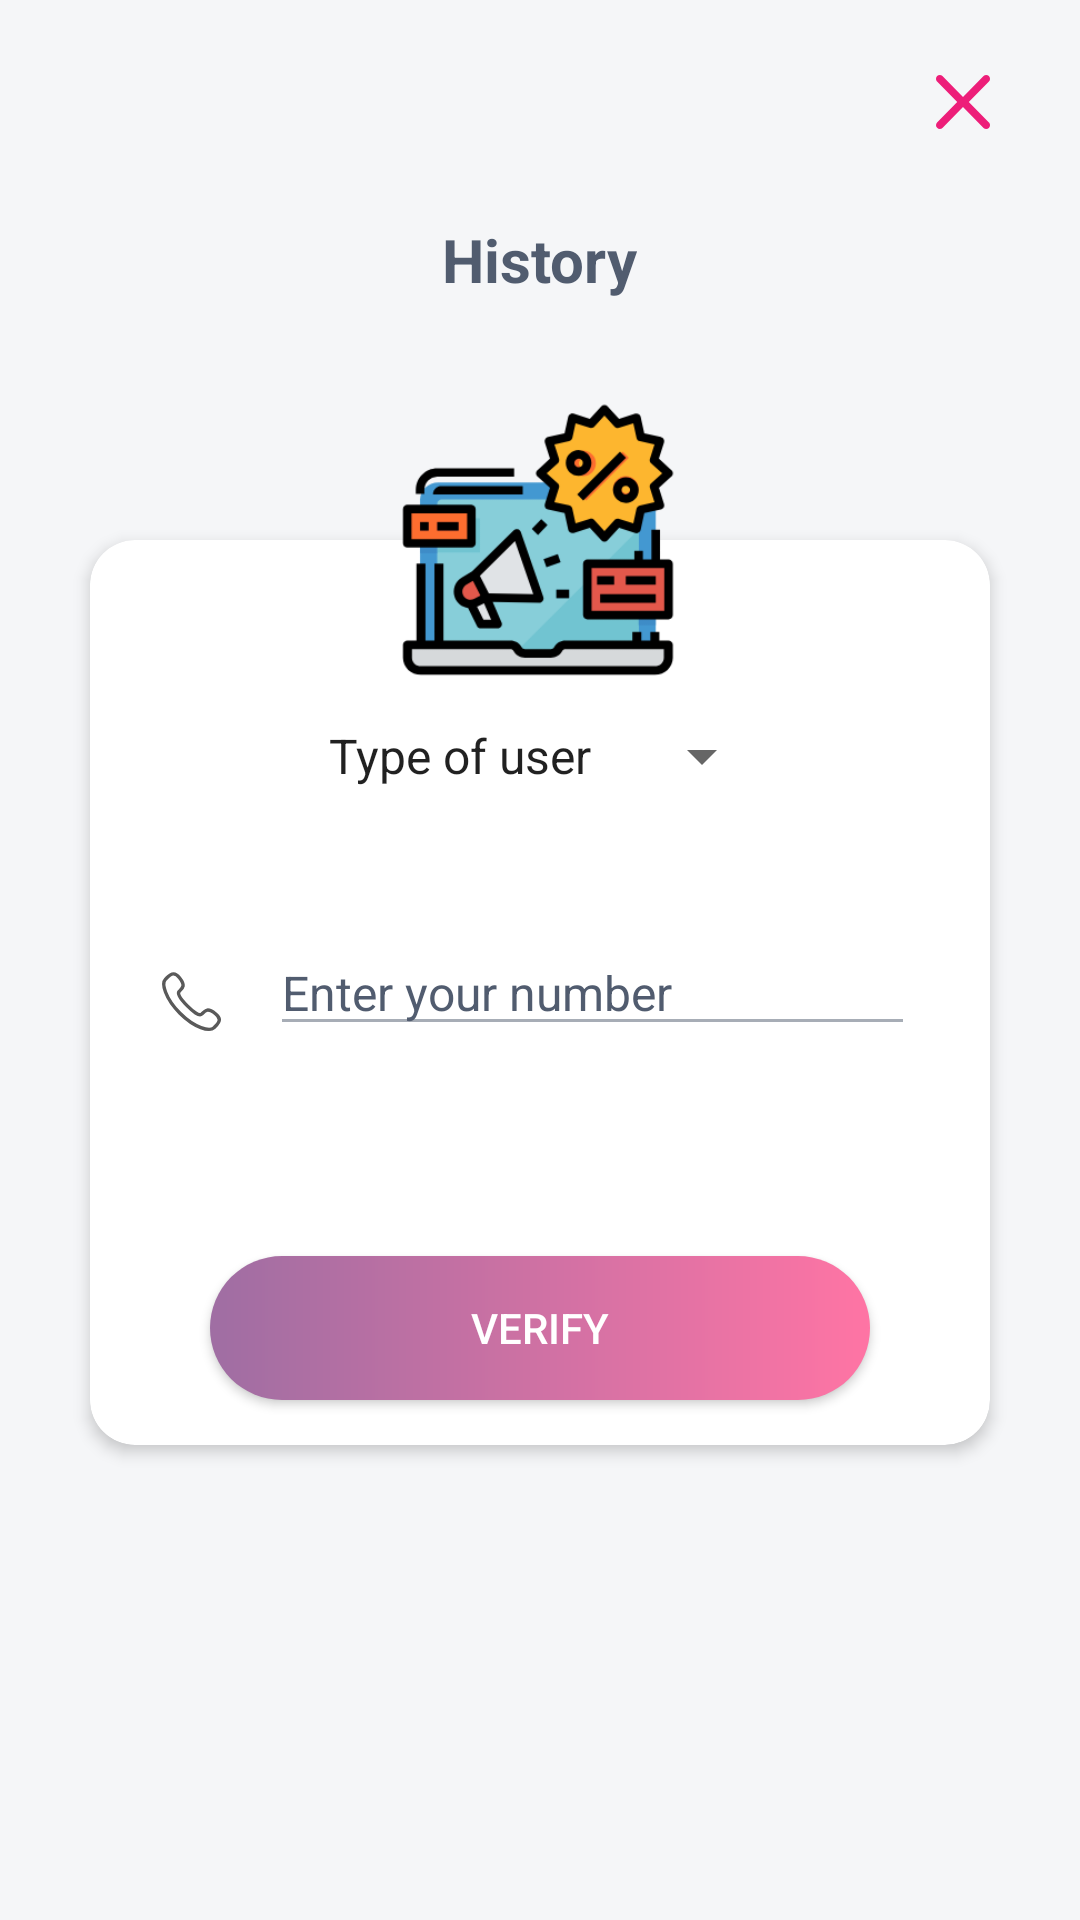

Icon bounding boxes for this 1080 x 1920 phone screenshot, format (x1,y1,x2,y2):
cal: (162,972,221,1031)
close: (936,75,990,129)
